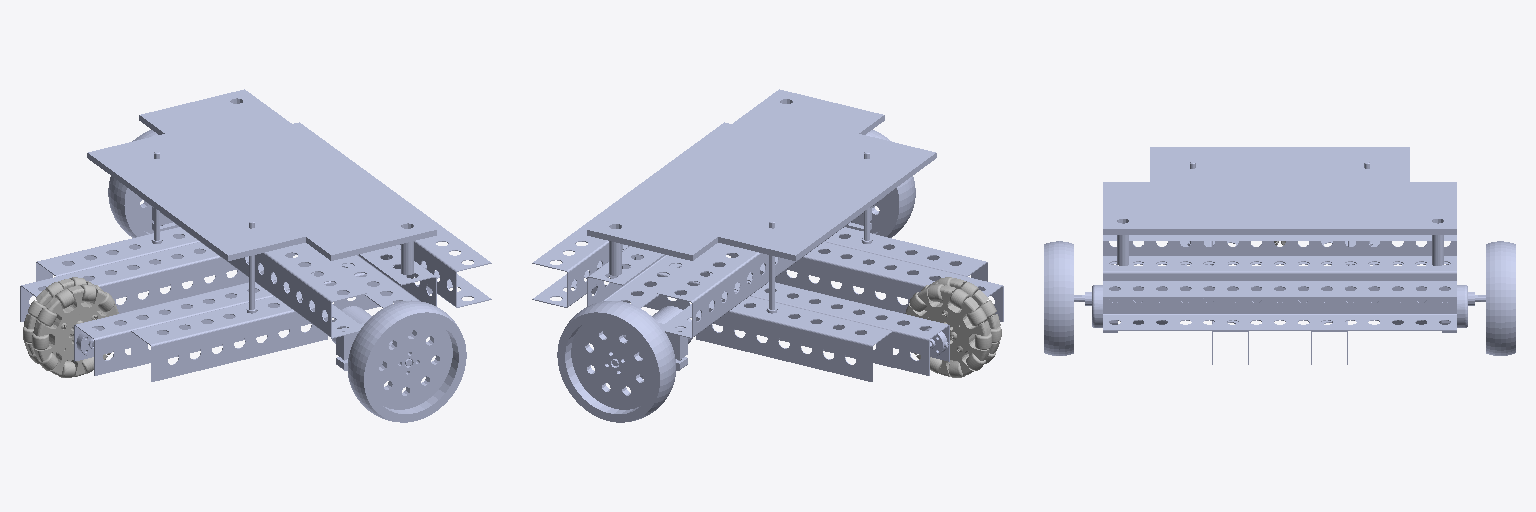
robot.urdf — robotdani:
<?xml version="1.0" encoding="utf-8"?>
<!-- This URDF was automatically created by SolidWorks to URDF Exporter! Originally created by [author] ([email redacted]) 
     Commit Version: 1.6.0-1-g15f4949  Build Version: 1.6.7594.29634
     For more information, please see http://wiki.ros.org/sw_urdf_exporter -->
<robot
  name="robotdani">
  <link name="base_link" />    
  <joint name="dummy_base_link" type="fixed">
    <parent link="base_link"/>
    <child link="chasis"/>
  </joint>
  <link
    name="chasis">
    <inertial>
      <origin
        xyz="0.0102573593102757 3.90402320556236E-06 0.024306923509269"
        rpy="0 0 0" />
      <mass
        value="0.508596589711015" />
      <inertia
        ixx="0.00186316321715101"
        ixy="-1.82760326451473E-08"
        ixz="-6.23007633769857E-07"
        iyy="0.000874148042299219"
        iyz="-4.08749627617853E-09"
        izz="0.00266527809108481" />
    </inertial>
    <visual>
      <origin
        xyz="0 0 0"
        rpy="0 0 0" />
      <geometry>
        <mesh
          filename="package://robotdani/meshes/base_link.STL" />
      </geometry>
      <material
        name="">
        <color
          rgba="0.792156862745098 0.819607843137255 0.933333333333333 1" />
      </material>
    </visual>
    <collision>
      <origin
        xyz="0 0 0"
        rpy="0 0 0" />
      <geometry>
        <mesh
          filename="package://robotdani/meshes/base_link.STL" />
      </geometry>
    </collision>
  </link>
  <link
    name="RuedaDrc_Link">
    <inertial>
      <origin
        xyz="3.3307E-16 -0.0127 -1.9654E-15"
        rpy="0 0 0" />
      <mass
        value="0.087975" />
      <inertia
        ixx="7.2361E-05"
        ixy="-7.2983E-19"
        ixz="-5.5459E-11"
        iyy="0.0001386"
        iyz="4.6555E-19"
        izz="7.2361E-05" />
    </inertial>
    <visual>
      <origin
        xyz="0 0 0"
        rpy="0 0 0" />
      <geometry>
        <mesh
          filename="package://robotdani/meshes/RuedaDrc_Link.STL" />
      </geometry>
      <material
        name="">
        <color
          rgba="0.79216 0.81961 0.93333 1" />
      </material>
    </visual>
    <collision>
      <origin
        xyz="0 0 0"
        rpy="0 0 0" />
      <geometry>
        <mesh
          filename="package://robotdani/meshes/RuedaDrc_Link.STL" />
      </geometry>
    </collision>
  </link>
  <joint
    name="RuedaDrc_jt"
    type="continuous">
    <origin
      xyz="0.030564 -0.17442 -0.015523"
      rpy="0 0 0" />
    <parent
      link="chasis" />
    <child
      link="RuedaDrc_Link" />
    <axis
      xyz="0 -1 0" />
    <limit
      effort="100"
      velocity="100" />
  </joint>
  <link
    name="RuedaIzq_Link">
    <inertial>
      <origin
        xyz="-1.1935E-15 0.0127 -1.4259E-15"
        rpy="0 0 0" />
      <mass
        value="0.087975" />
      <inertia
        ixx="7.2361E-05"
        ixy="-7.2258E-19"
        ixz="3.486E-11"
        iyy="0.0001386"
        iyz="5.3963E-19"
        izz="7.2361E-05" />
    </inertial>
    <visual>
      <origin
        xyz="0 0 0"
        rpy="0 0 0" />
      <geometry>
        <mesh
          filename="package://robotdani/meshes/RuedaIzq_Link.STL" />
      </geometry>
      <material
        name="">
        <color
          rgba="0.79216 0.81961 0.93333 1" />
      </material>
    </visual>
    <collision>
      <origin
        xyz="0 0 0"
        rpy="0 0 0" />
      <geometry>
        <mesh
          filename="package://robotdani/meshes/RuedaIzq_Link.STL" />
      </geometry>
    </collision>
  </link>
  <joint
    name="RuedaIzq_jt"
    type="continuous">
    <origin
      xyz="0.030564 0.17443 -0.015523"
      rpy="0 0 0" />
    <parent
      link="chasis" />
    <child
      link="RuedaIzq_Link" />
    <axis
      xyz="0 -1 0" />
    <limit
      effort="100"
      velocity="100" />
  </joint>
  <link
    name="RuedaTrs_Link">
    <inertial>
      <origin
        xyz="8.2366E-07 -0.0029061 2.0308E-07"
        rpy="0 0 0" />
      <mass
        value="0.080623" />
      <inertia
        ixx="1.32E-05"
        ixy="1.2399E-11"
        ixz="-8.5339E-10"
        iyy="2.5552E-05"
        iyz="-6.4165E-10"
        izz="1.3244E-05" />
    </inertial>
    <visual>
      <origin
        xyz="0 0 0"
        rpy="0 0 0" />
      <geometry>
        <mesh
          filename="package://robotdani/meshes/RuedaTrs_Link.STL" />
      </geometry>
      <material
        name="">
        <color
          rgba="0.75294 0.75294 0.75294 1" />
      </material>
    </visual>
    <collision>
      <origin
        xyz="0 0 0"
        rpy="0 0 0" />
      <geometry>
        <mesh
          filename="package://robotdani/meshes/RuedaTrs_Link.STL" />
      </geometry>
    </collision>
  </link>
  <joint
    name="RuedaTrs_jt"
    type="continuous">
    <origin
      xyz="-0.16437 0.002679 -0.016368"
      rpy="0 0 0" />
    <parent
      link="chasis" />
    <child
      link="RuedaTrs_Link" />
    <axis
      xyz="0 1 0" />
    <limit
      effort="100"
      velocity="100" />
  </joint>
</robot>

--- Render facts (derived) ---
3 views of the same robot in one strip: view 1: azimuth 30°, elevation 25°; view 2: azimuth 150°, elevation 25°; view 3: azimuth 270°, elevation 25° (orthographic).
Robot: robotdani — 5 links, 4 joints (3 continuous, 1 fixed); root link base_link; default pose: all joints at 0.
Links seen in each view (by area): view 1: chasis, RuedaDrc_Link, RuedaTrs_Link, RuedaIzq_Link; view 2: chasis, RuedaIzq_Link, RuedaTrs_Link, RuedaDrc_Link; view 3: chasis, RuedaDrc_Link, RuedaIzq_Link.
Boxes of the visible links, x1,y1,x2,y2 form: chasis: (20, 89, 491, 381); RuedaDrc_Link: (348, 300, 466, 422); RuedaTrs_Link: (23, 277, 118, 377); RuedaIzq_Link: (108, 130, 157, 237); chasis: (532, 89, 1003, 381); RuedaIzq_Link: (557, 301, 675, 422); RuedaTrs_Link: (905, 277, 1001, 377); RuedaDrc_Link: (866, 130, 915, 237); chasis: (1074, 147, 1485, 364); RuedaDrc_Link: (1044, 241, 1073, 355); RuedaIzq_Link: (1486, 241, 1515, 355).
Bounding box of the posed robot: 0.3314 × 0.3996 × 0.1413 m (x, y, z).
4 mesh visuals loaded from 4 distinct referenced files (4 binary STL).
